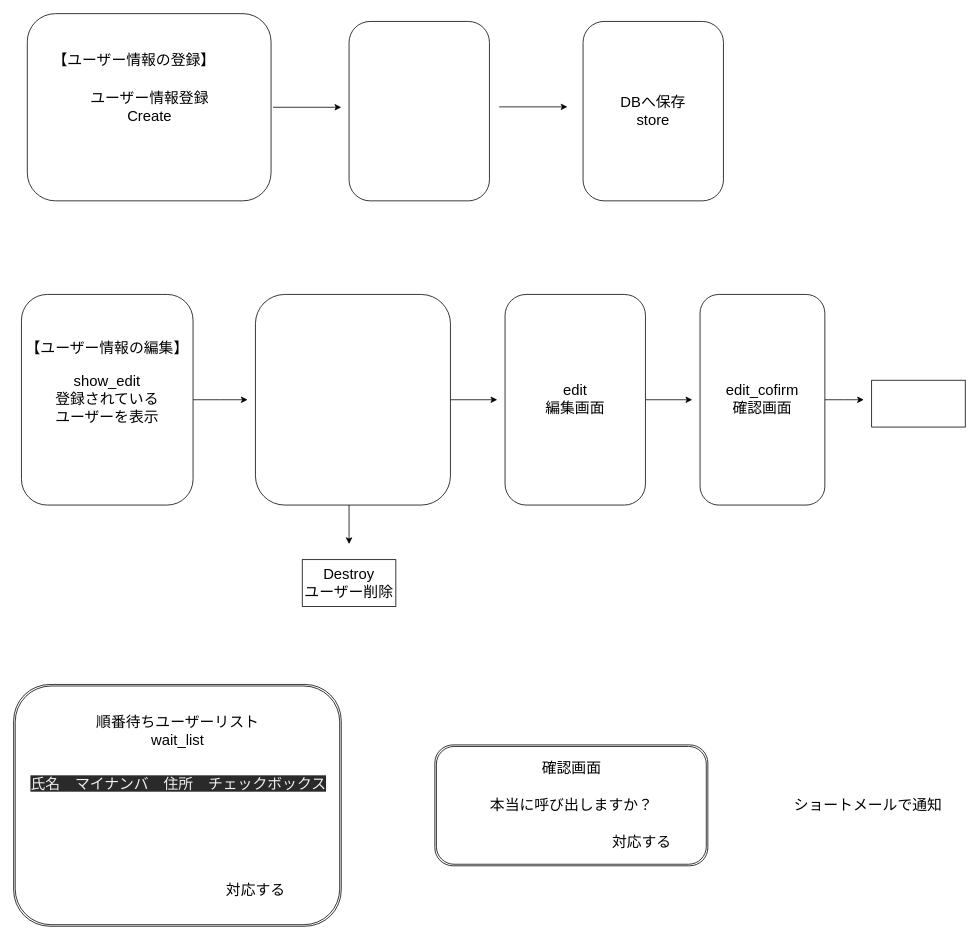
Some shapes in this 979 by 946 pixel diagram are drawn without their labels. Each missing label, with the centre of its shape:
show_detail ユーザー（1人）の詳細情報を表示: (x=352, y=399)
Update 更新: (x=918, y=403)
確認画面 show_admin: (x=418, y=111)
